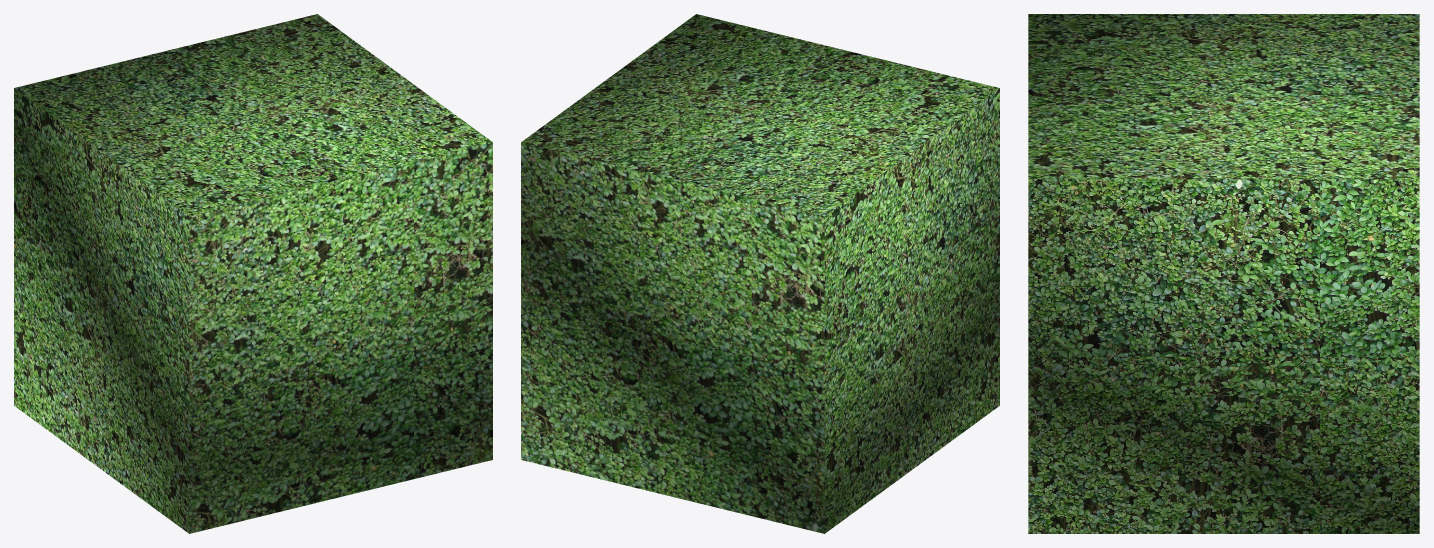
The model's file is hedge_1.fbx.
3 renders of one model, left to right at view 1: azimuth 30°, elevation 25°; view 2: azimuth 150°, elevation 25°; view 3: azimuth 270°, elevation 25°, orthographic. The views are drawn at different scales.
Visible parts, largest first — view 1: Cube; view 2: Cube; view 3: Cube.
Part boxes in pixels (x1,y1,x2,y2): Cube: [14, 14, 492, 533]; Cube: [521, 14, 999, 533]; Cube: [1028, 14, 1419, 533].
Size of the model in its own units: 200 by 210 by 200.
